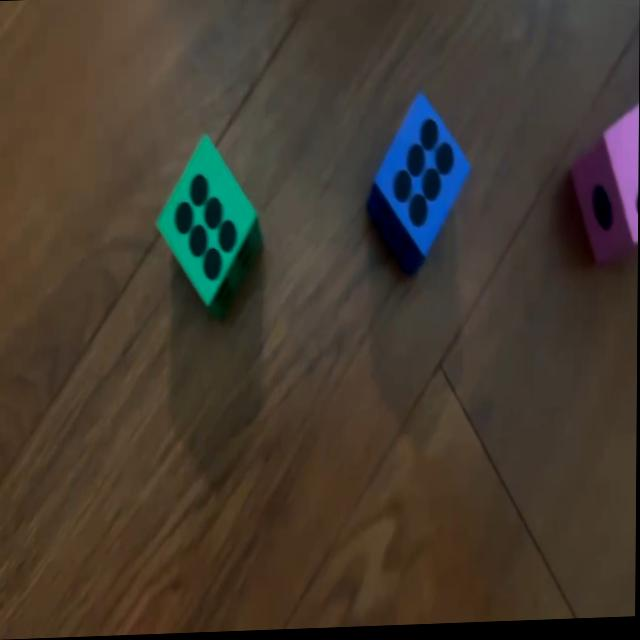cube: (372, 89, 472, 266), (158, 136, 260, 306)
